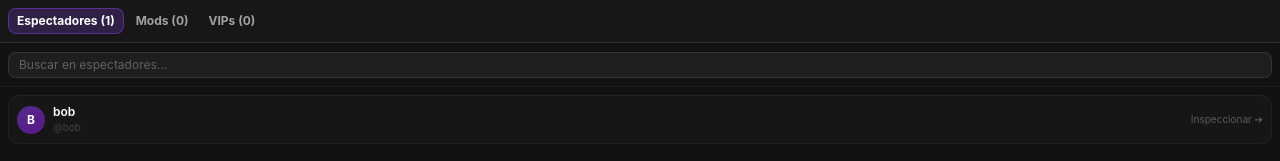
Test case: moderation data is not confused with unavailable data › keeps other data usable when one request rejects
Expected: the text "bob" is shown, [53, 104, 75, 120]
Click the button "Mods (0)".
click(162, 21)  # box [128, 9, 196, 33]
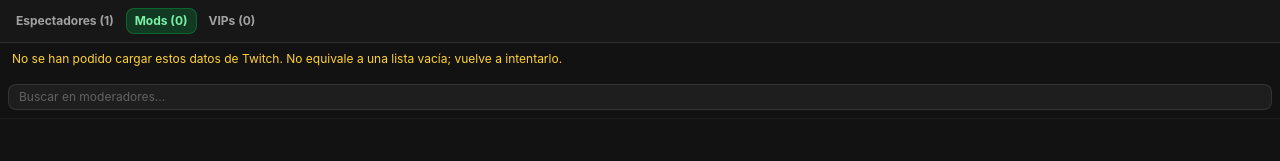
Now the message shows "No se han podido cargar", box [12, 51, 562, 66]
